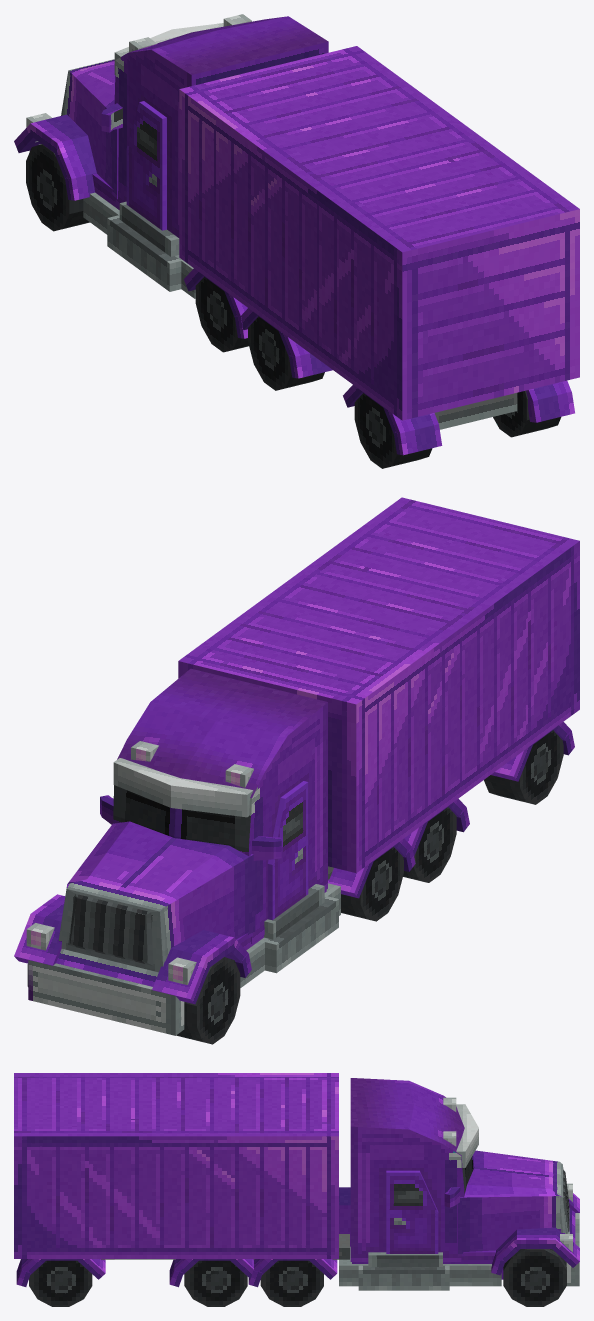
File: truck2.gltf
3 views of the same model, one above another, from view 1: azimuth 30°, elevation 25°; view 2: azimuth 150°, elevation 25°; view 3: azimuth 270°, elevation 25° (orthographic). The views are drawn at different scales.
Parts seen in each view (by area): view 1: cube (×12), cuboid (×4), cylinder (×5); view 2: cube (×10), cuboid (×5), cylinder (×4); view 3: cube (×13), cuboid (×4), cylinder (×4).
Part boxes in pixels (x1,y1,x2,y2): cube (×12): [30, 46, 579, 455]; cuboid (×4): [61, 16, 328, 237]; cylinder (×5): [26, 144, 561, 468]; cube (×10): [14, 497, 579, 1035]; cuboid (×5): [58, 668, 327, 972]; cylinder (×4): [176, 730, 563, 1044]; cube (×13): [14, 1073, 579, 1290]; cuboid (×4): [350, 1078, 569, 1261]; cylinder (×4): [29, 1249, 566, 1306].
Bounding box in the file's own units: 3.49 × 4.43 × 12.97.
Materials: 1 (1 with a texture image).
